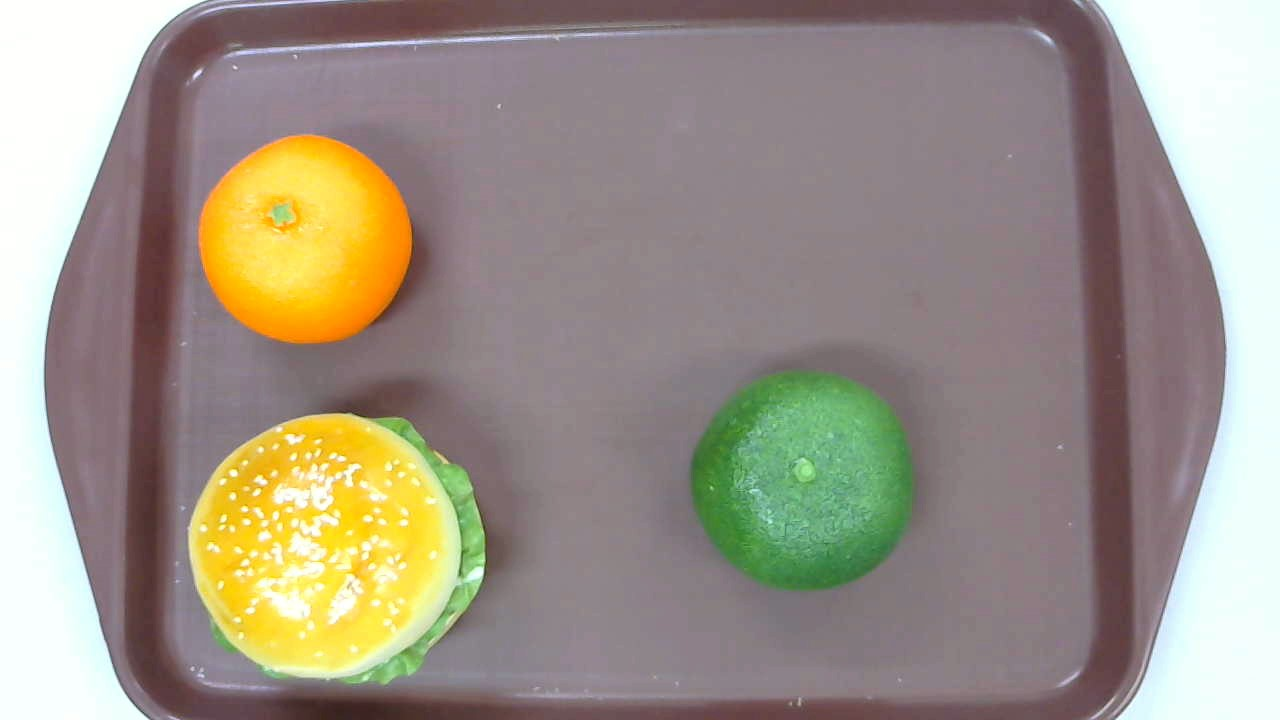green orange: (690, 368, 916, 591)
hamburger: (187, 412, 486, 684)
orange: (197, 134, 412, 347)
